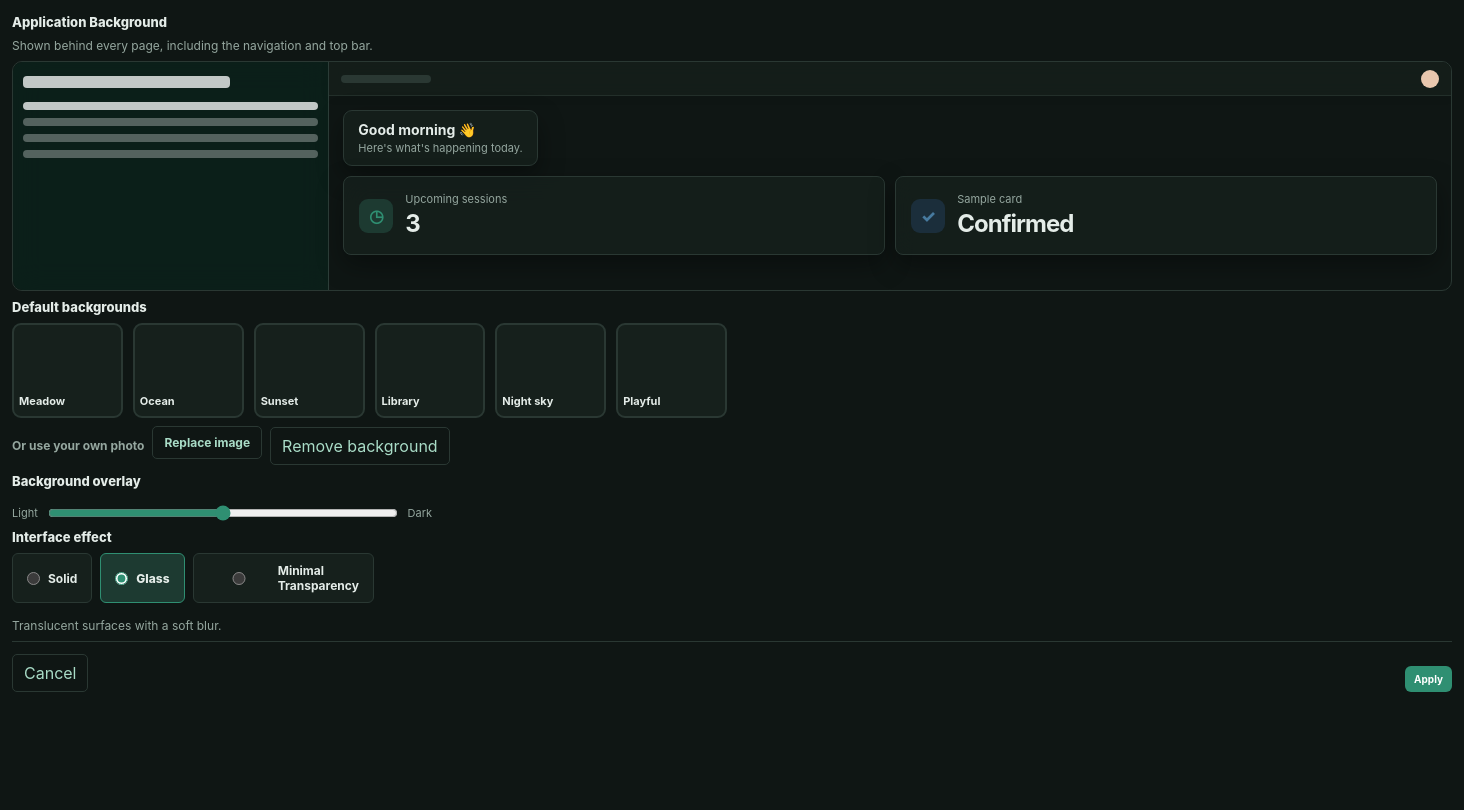
Test: previews the full application shell and applies the chosen interface effect
expect the radio button labelled "Minimal Transparency" is shown: met, box [208,572,270,585]
expect the radio button labelled "Glass" is checked: met, box [115,572,128,585]
Click the radio button labelled "Solid".
click(34, 578)  # box [27,572,40,585]
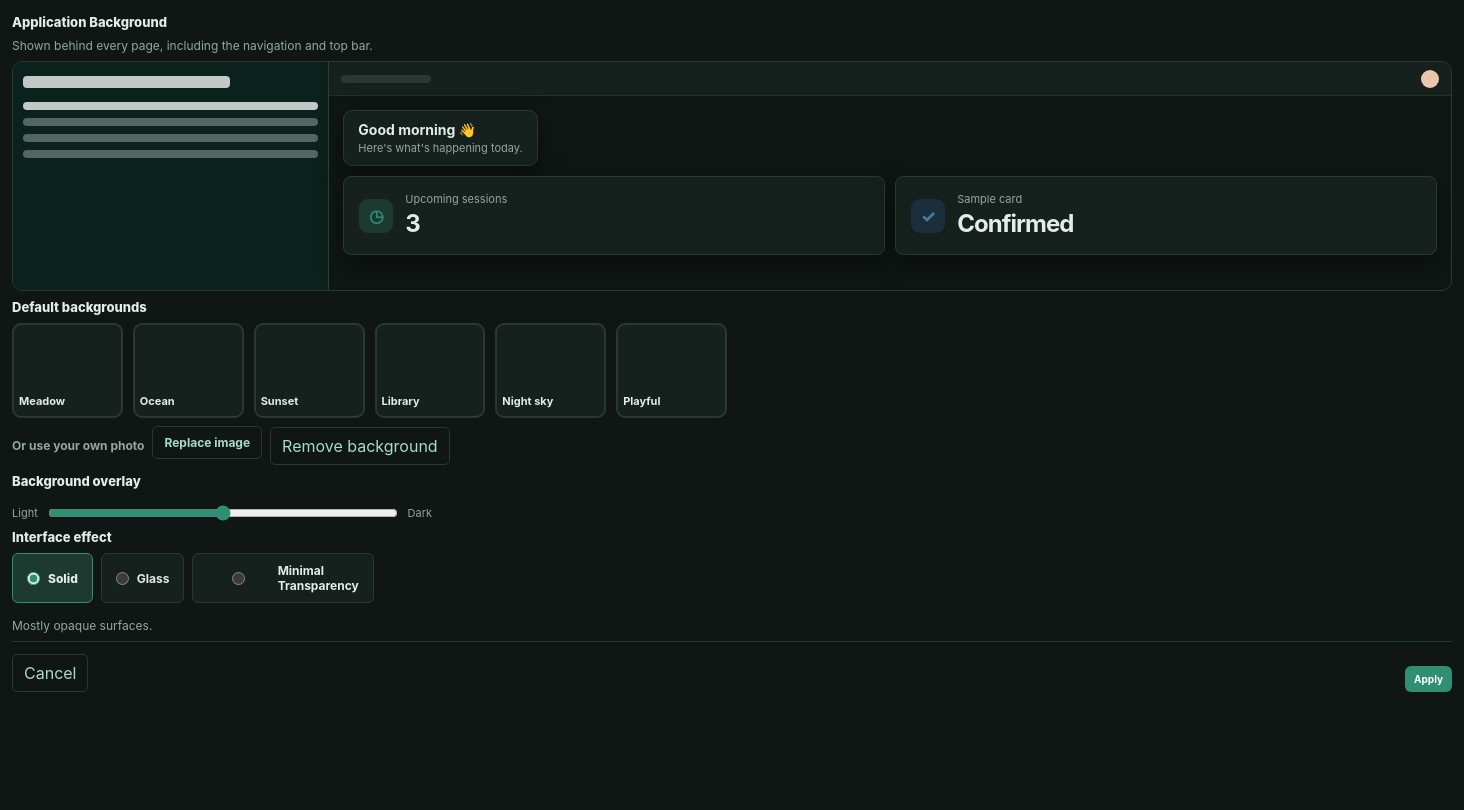
Click the button "Apply".
click(1429, 679)  # box [1405,666,1452,692]
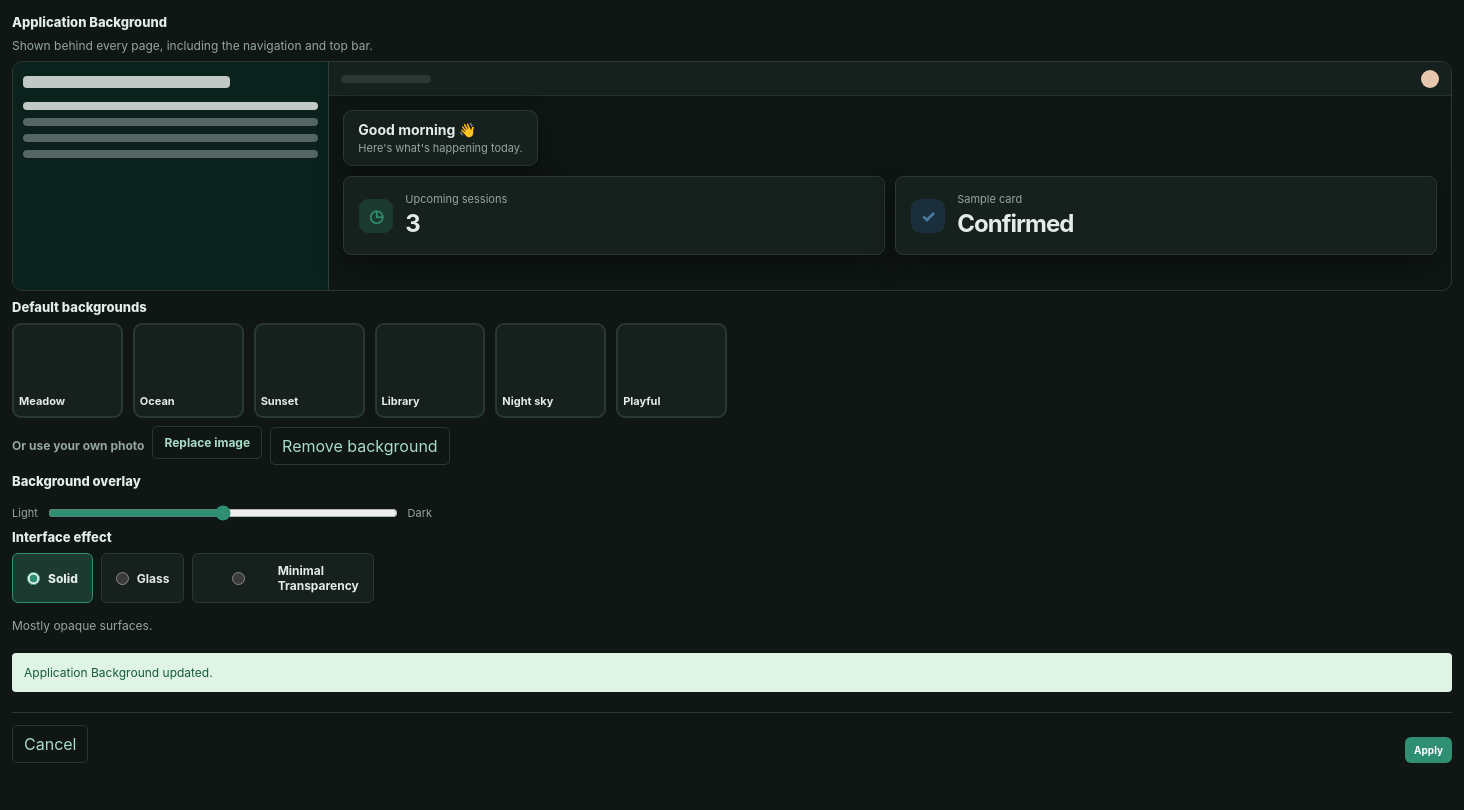
expect the text "Application Background updated." is shown: met, box [12,653,1452,692]
